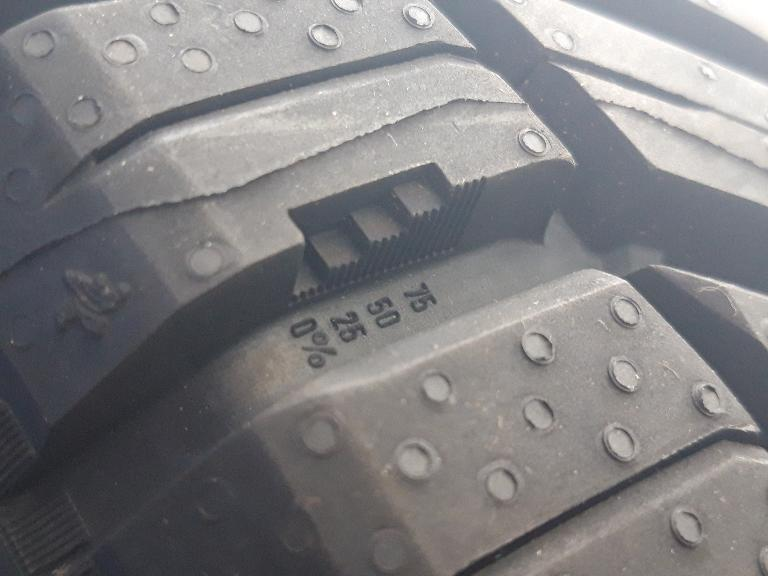temoin:100: (282, 157, 492, 313)
